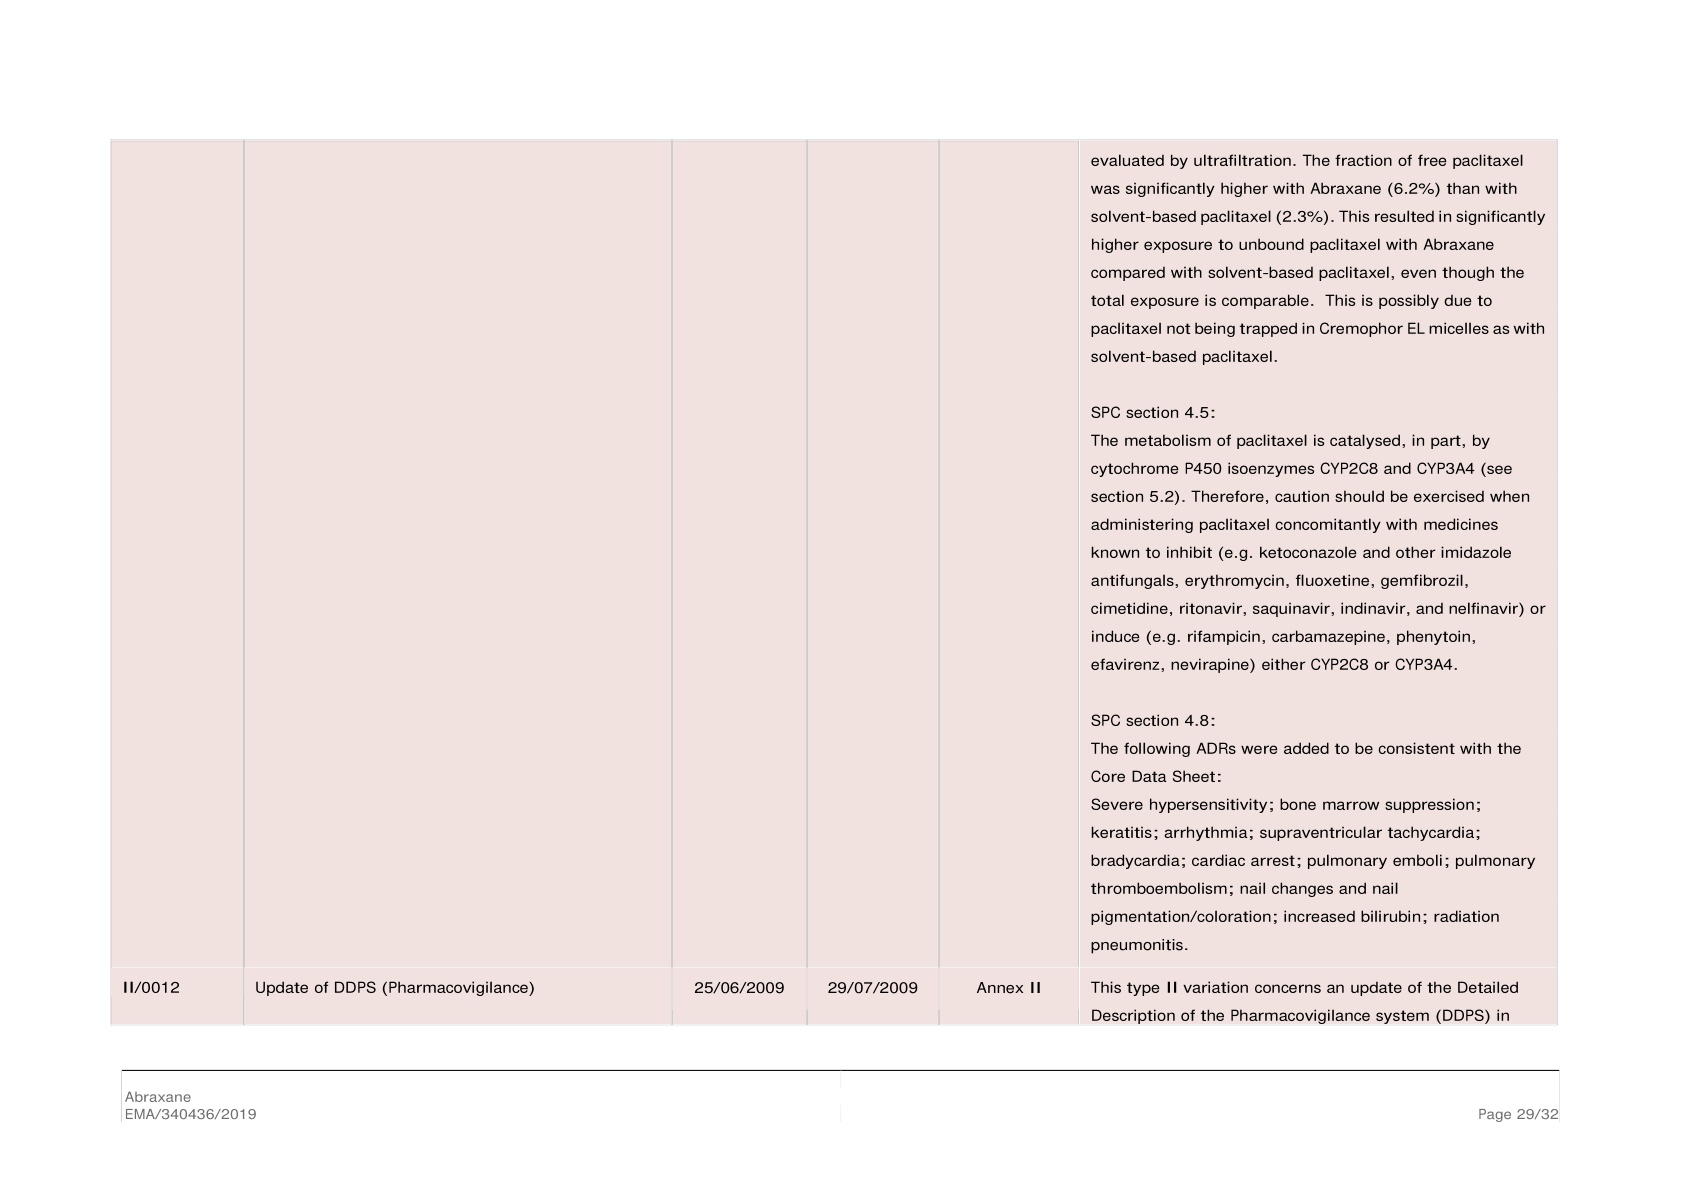full_lined: (111, 138, 1558, 1025)
